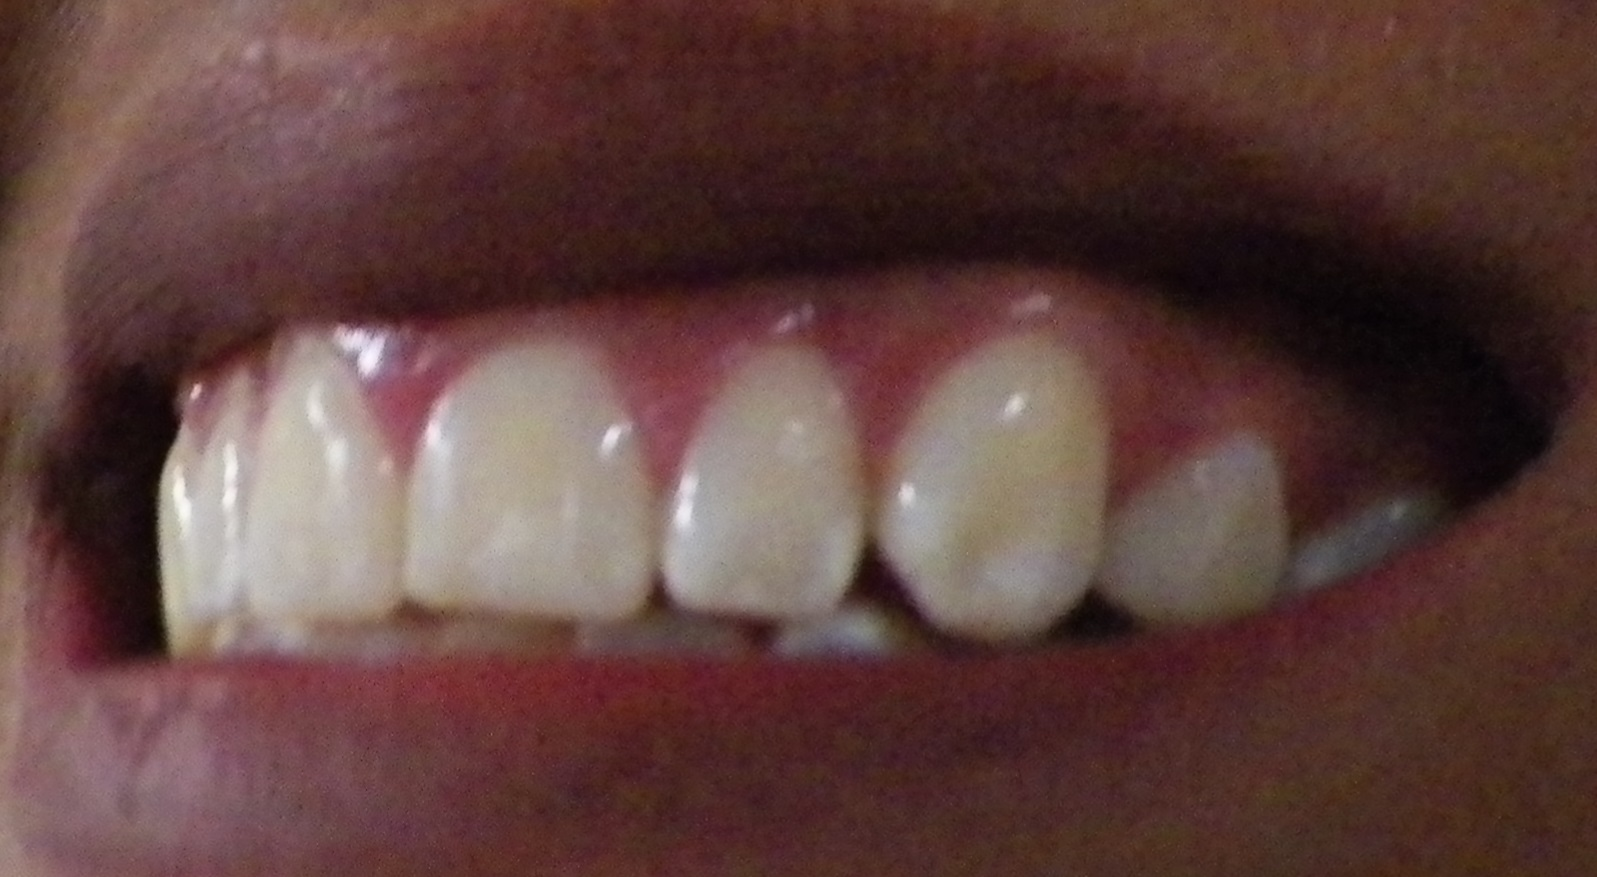boca: (143, 329, 1464, 661)
